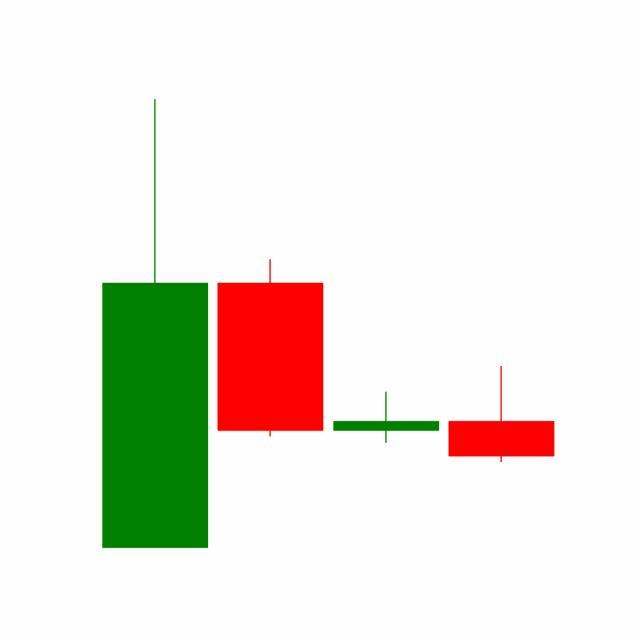Spinning Top: (329, 391, 445, 444)
